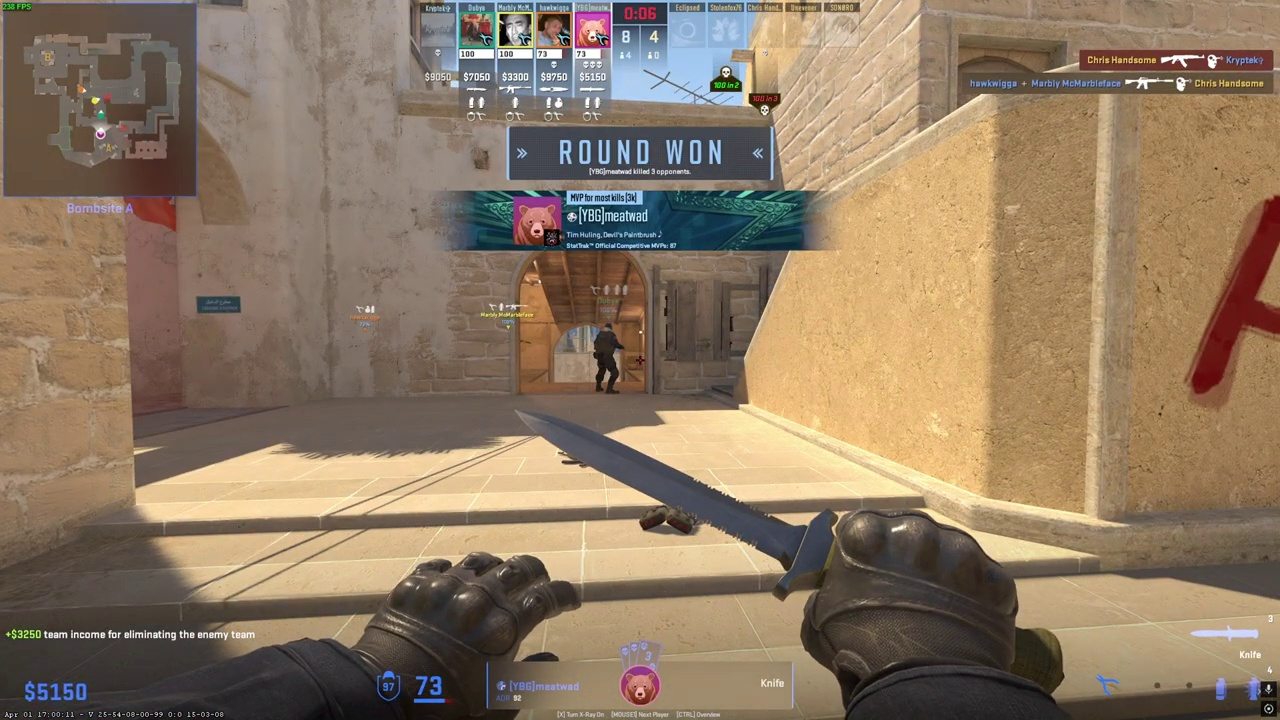CT: (593, 323, 620, 394)
